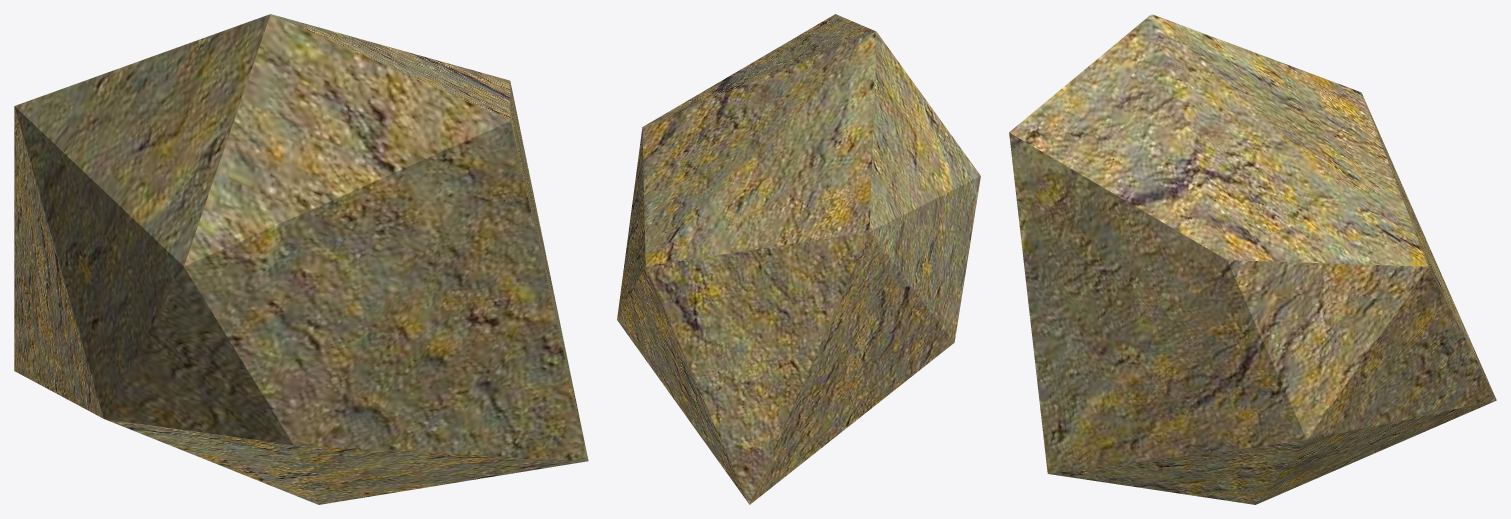
The model's file is rock4.fbx.
3 renders of one model, left to right at view 1: azimuth 30°, elevation 25°; view 2: azimuth 150°, elevation 25°; view 3: azimuth 270°, elevation 25°, orthographic. The views are drawn at different scales.
Parts seen in each view (by area): view 1: Rock4; view 2: Rock4; view 3: Rock4.
Part boxes in pixels (bbox=[...]): Rock4: bbox=[14, 14, 588, 504]; Rock4: bbox=[617, 14, 980, 504]; Rock4: bbox=[1009, 14, 1496, 504].
Size of the model in its own units: 9.89 by 12.55 by 12.41.
